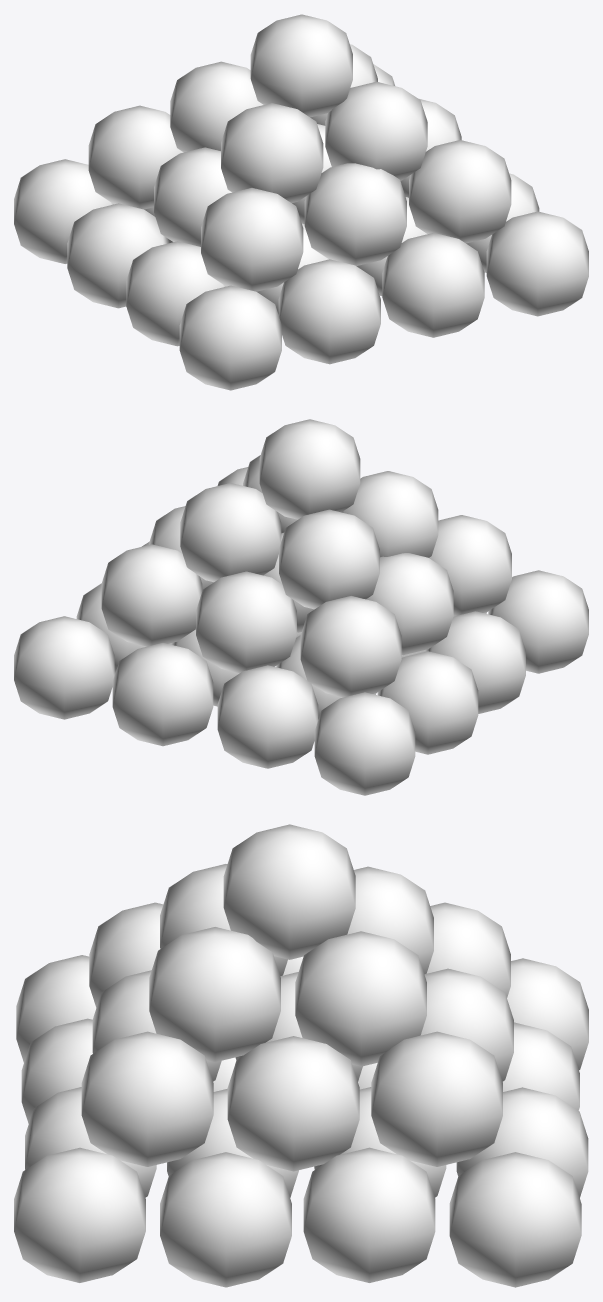
The model's file is MM_Snowballs.fbx.
The picture shows the model from 3 angles, top to bottom: view 1: azimuth 30°, elevation 25°; view 2: azimuth 150°, elevation 25°; view 3: azimuth 270°, elevation 25°; orthographic projection. The views are drawn at different scales.
Parts seen in each view (by area): view 1: MM_Snowballs; view 2: MM_Snowballs; view 3: MM_Snowballs.
Part boxes in pixels (x1,y1,x2,y2): MM_Snowballs: [14, 14, 588, 390]; MM_Snowballs: [14, 419, 588, 795]; MM_Snowballs: [14, 824, 588, 1287].
Bounding box in the file's own units: 106 × 65.44 × 98.75.
